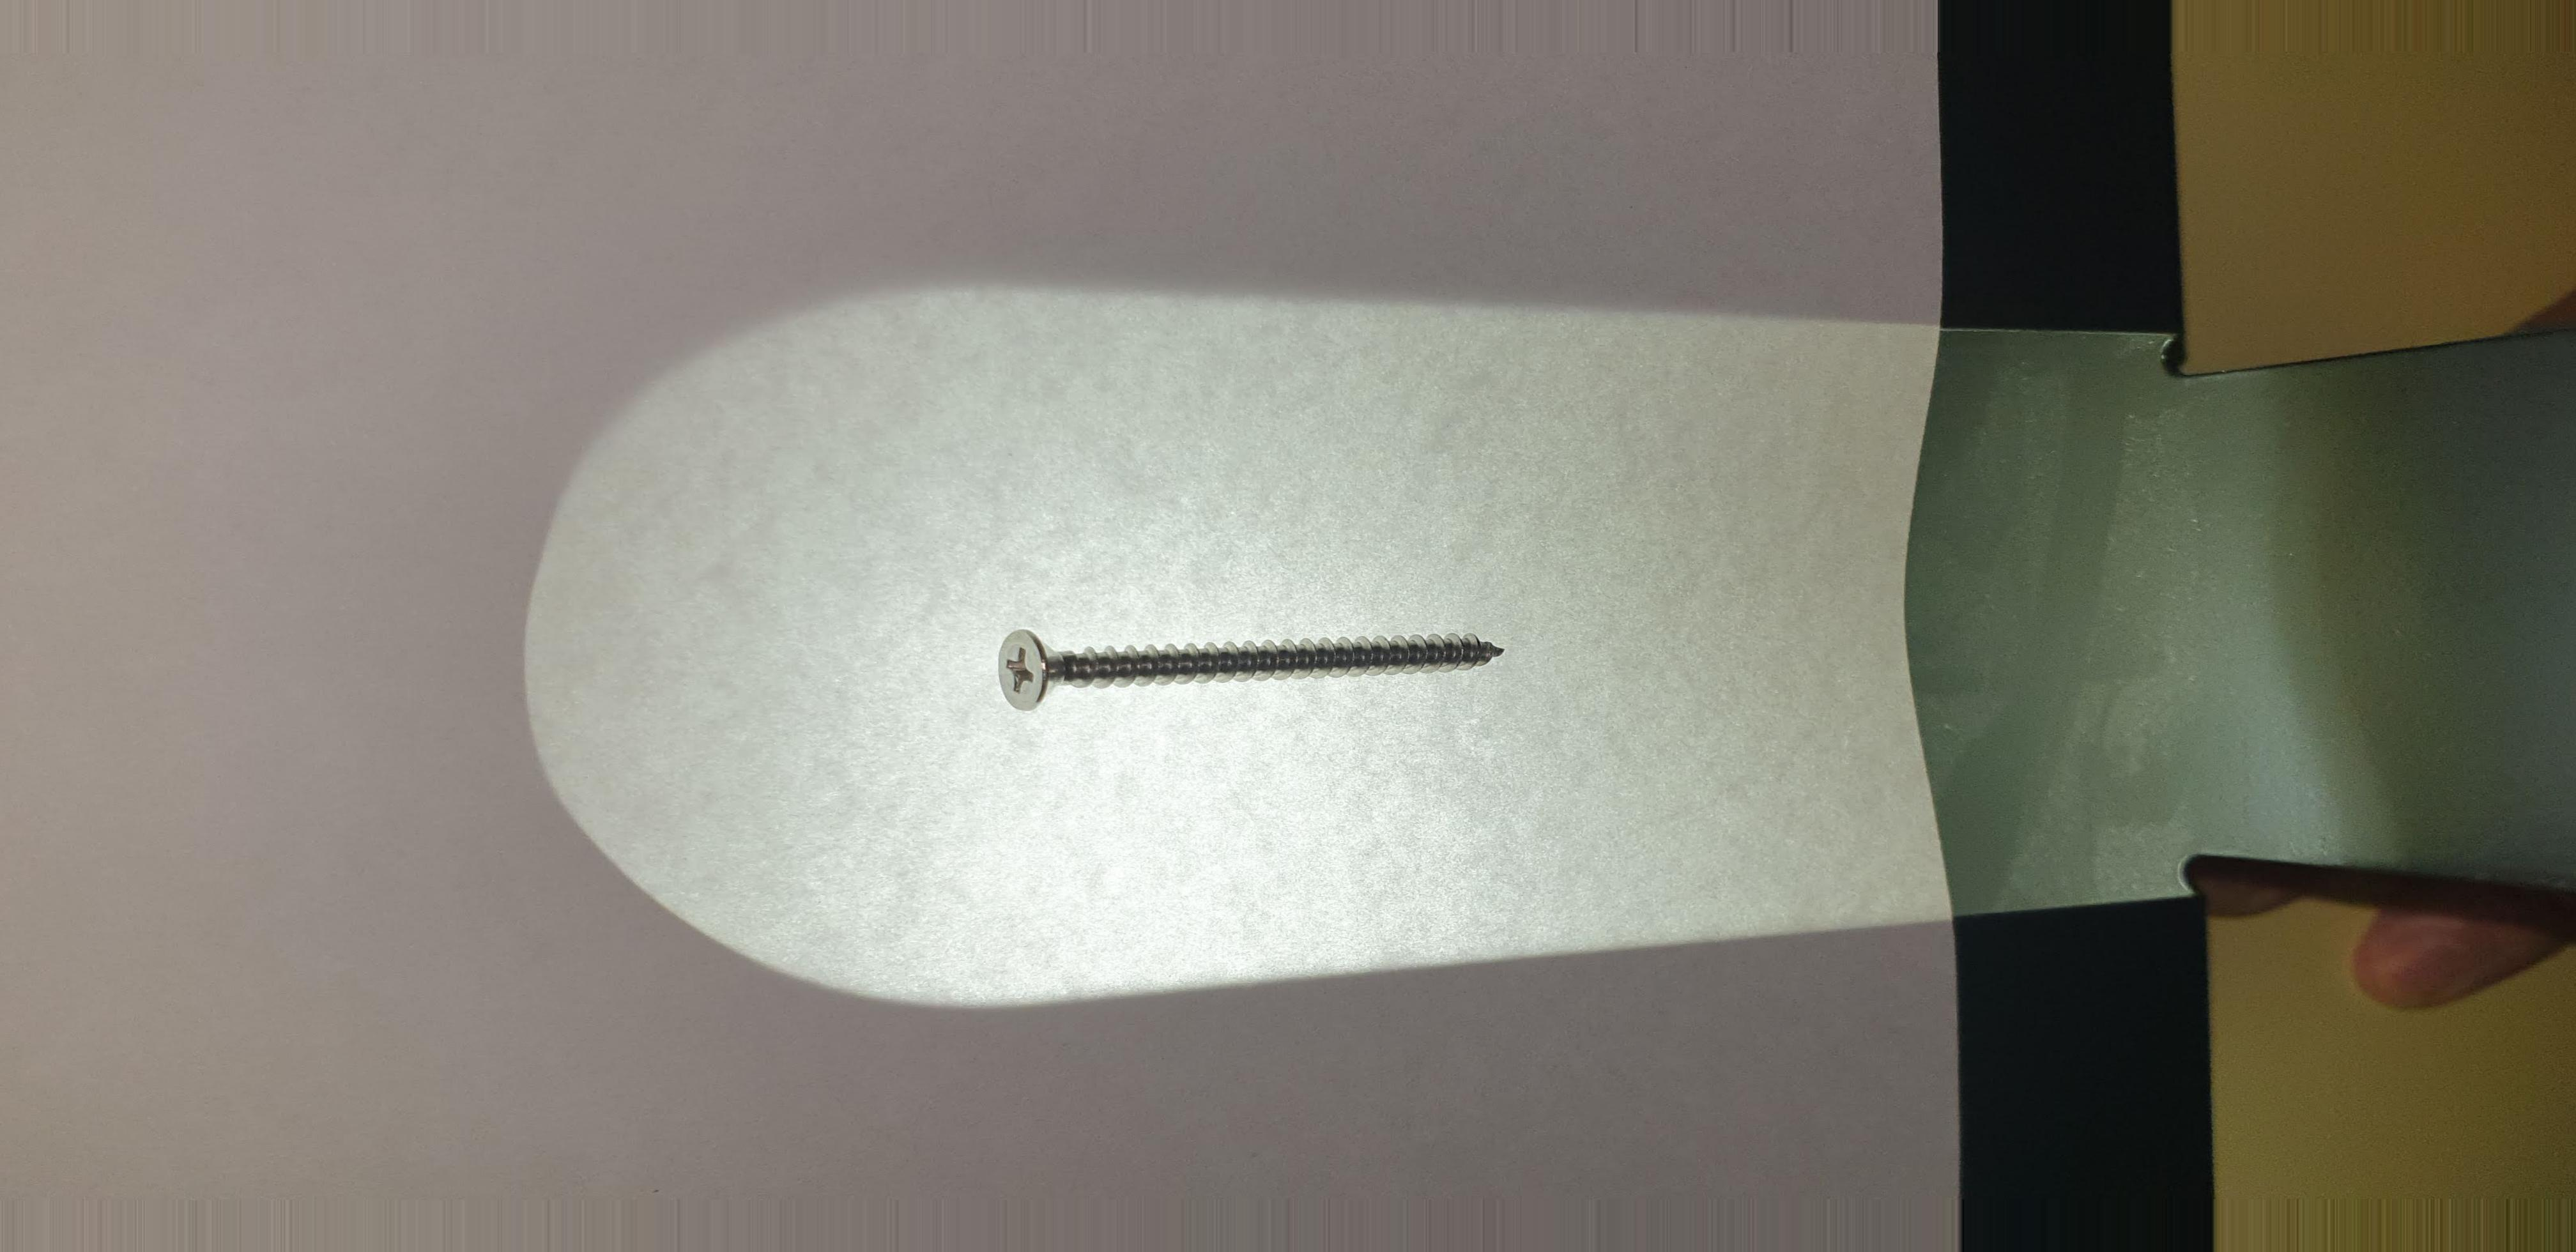fastener: (941, 572, 1635, 772)
